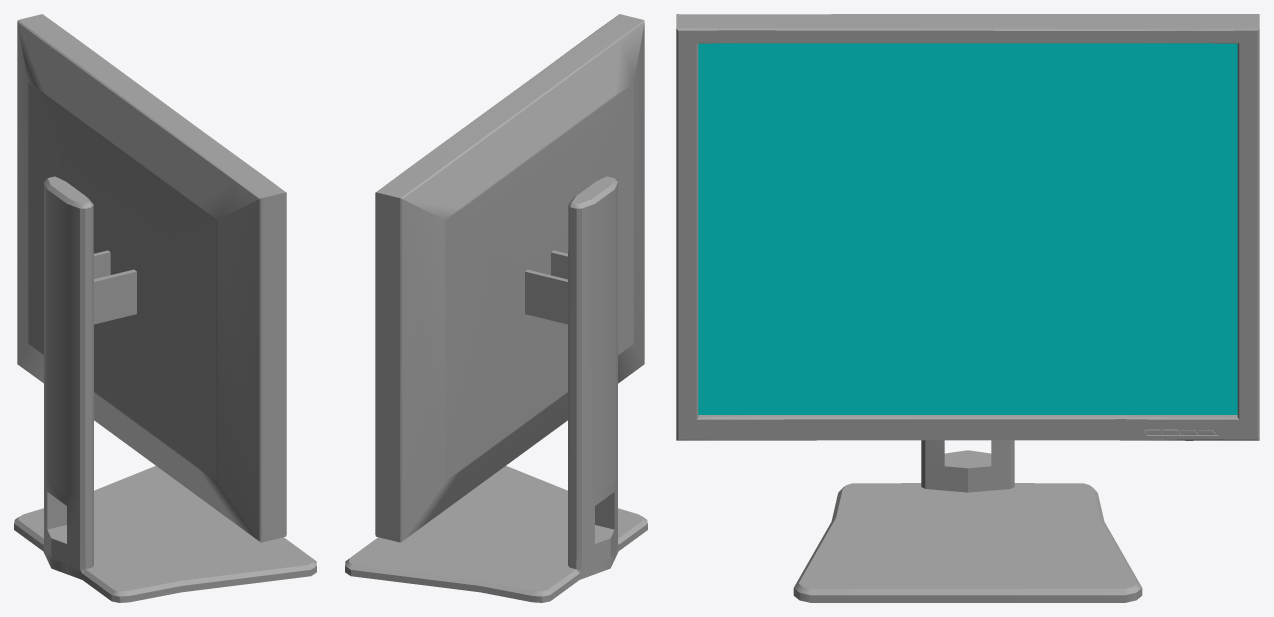
File: SM_Computer.fbx
The picture shows the model from 3 angles, left to right: view 1: azimuth 30°, elevation 25°; view 2: azimuth 150°, elevation 25°; view 3: azimuth 270°, elevation 25°; orthographic projection. The views are drawn at different scales.
Visible parts, largest first — view 1: ComputerScreen_low, ComputerBase_low; view 2: ComputerScreen_low, ComputerBase_low; view 3: ComputerScreen_low, ComputerBase_low.
Boxes of the visible parts, x1,y1,x2,y2 form: ComputerScreen_low: [17, 14, 286, 542]; ComputerBase_low: [14, 176, 316, 602]; ComputerScreen_low: [375, 14, 644, 542]; ComputerBase_low: [345, 176, 647, 602]; ComputerScreen_low: [676, 14, 1259, 440]; ComputerBase_low: [793, 440, 1142, 602].
Size of the model in its own units: 21.03 by 44.07 by 44.45.
